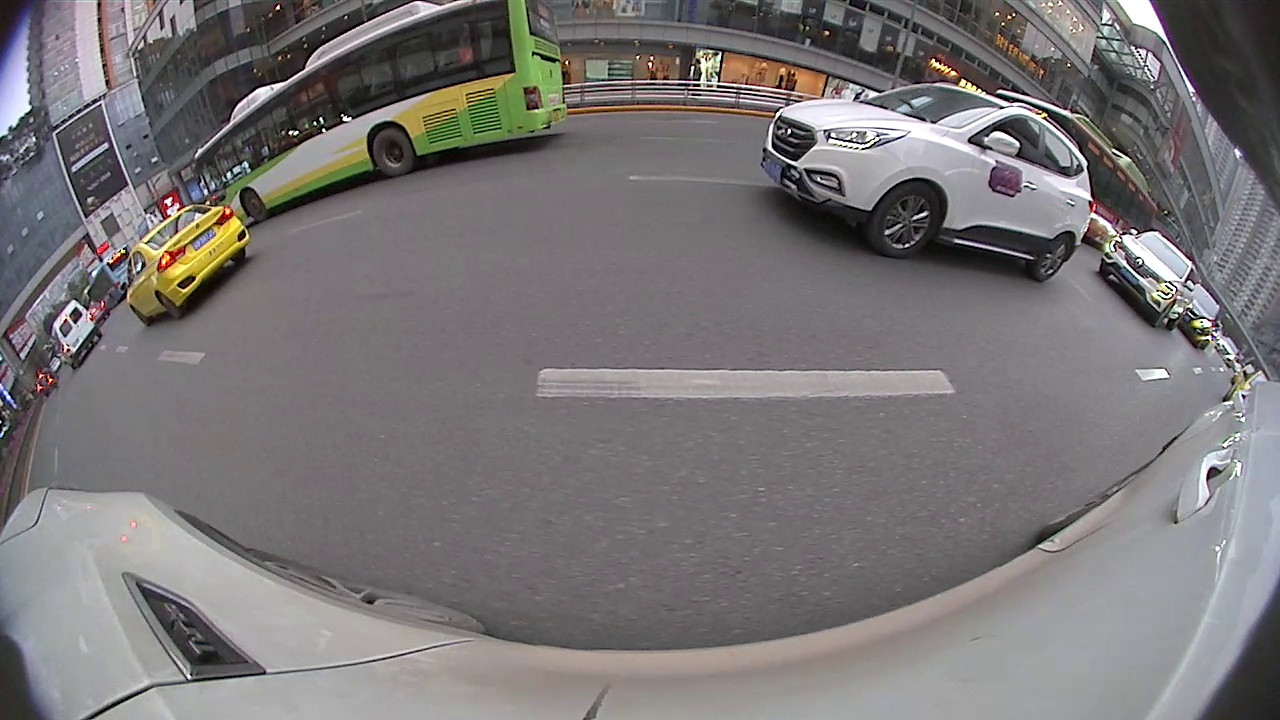bus: (191, 2, 571, 233)
car: (766, 80, 1094, 286), (122, 200, 257, 327), (1094, 231, 1201, 338), (48, 298, 102, 370), (1168, 287, 1222, 353)
front: (874, 182, 941, 260), (241, 189, 270, 225)
rear: (370, 128, 419, 178), (1031, 230, 1072, 285), (156, 290, 183, 324)
